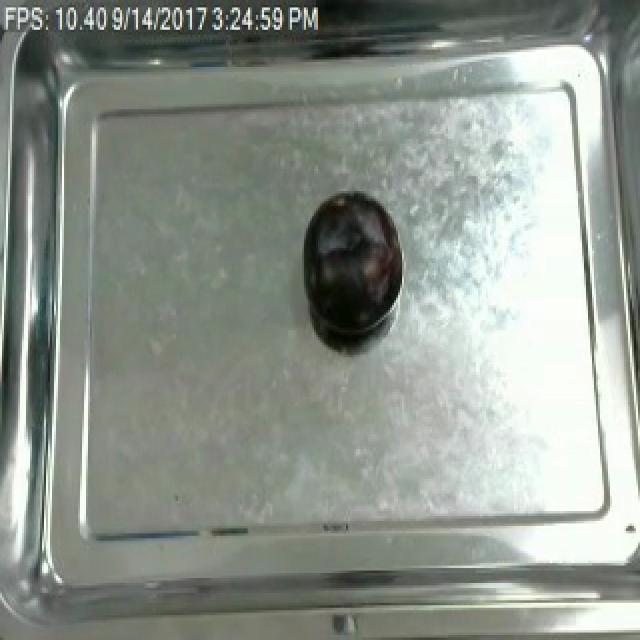Fruit: (302, 186, 402, 345)
